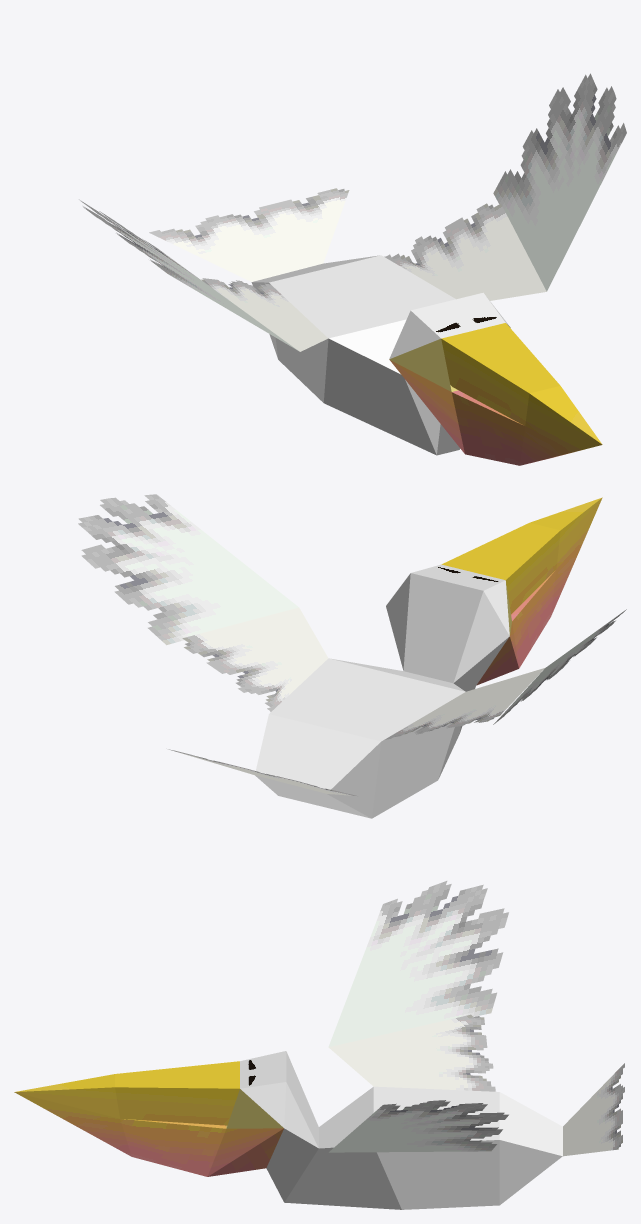
Rendered from pelican.obj.
3 views of the same model, one above another, from view 1: azimuth 30°, elevation 25°; view 2: azimuth 150°, elevation 25°; view 3: azimuth 270°, elevation 25° (orthographic). The views are drawn at different scales.
Parts seen in each view (by area): view 1: feathers, body, beak, eyes; view 2: body, feathers, beak, eyes; view 3: feathers, body, beak, eyes.
Part boxes in pixels (x1,y1,x2,y2): feathers: (79, 73, 626, 351); body: (251, 255, 510, 455); beak: (389, 323, 602, 465); eyes: (411, 292, 505, 338); body: (255, 573, 511, 818); feathers: (78, 494, 626, 796); beak: (441, 497, 602, 685); eyes: (411, 564, 505, 590); feathers: (328, 881, 624, 1156); body: (226, 1051, 562, 1209); beak: (14, 1061, 283, 1176); eyes: (240, 1051, 286, 1088).
Size of the model in its own units: 10.39 by 4.5 by 10.93.
Materials: 5 (5 with a texture image).
